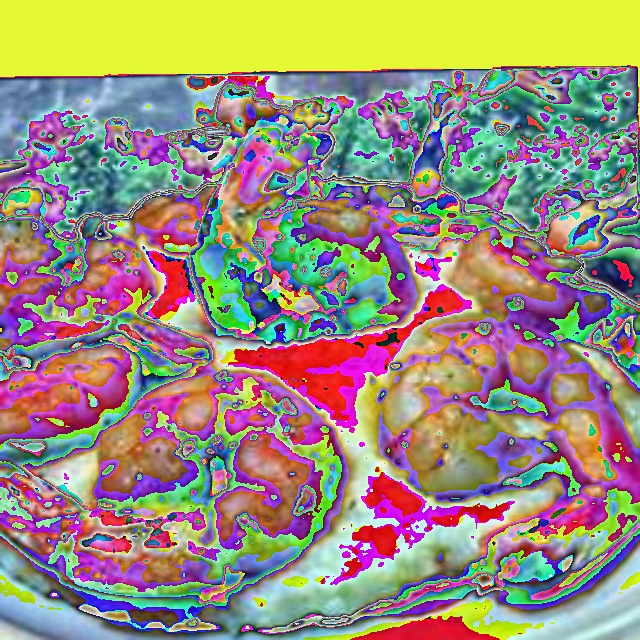background: (0, 68, 640, 632)
